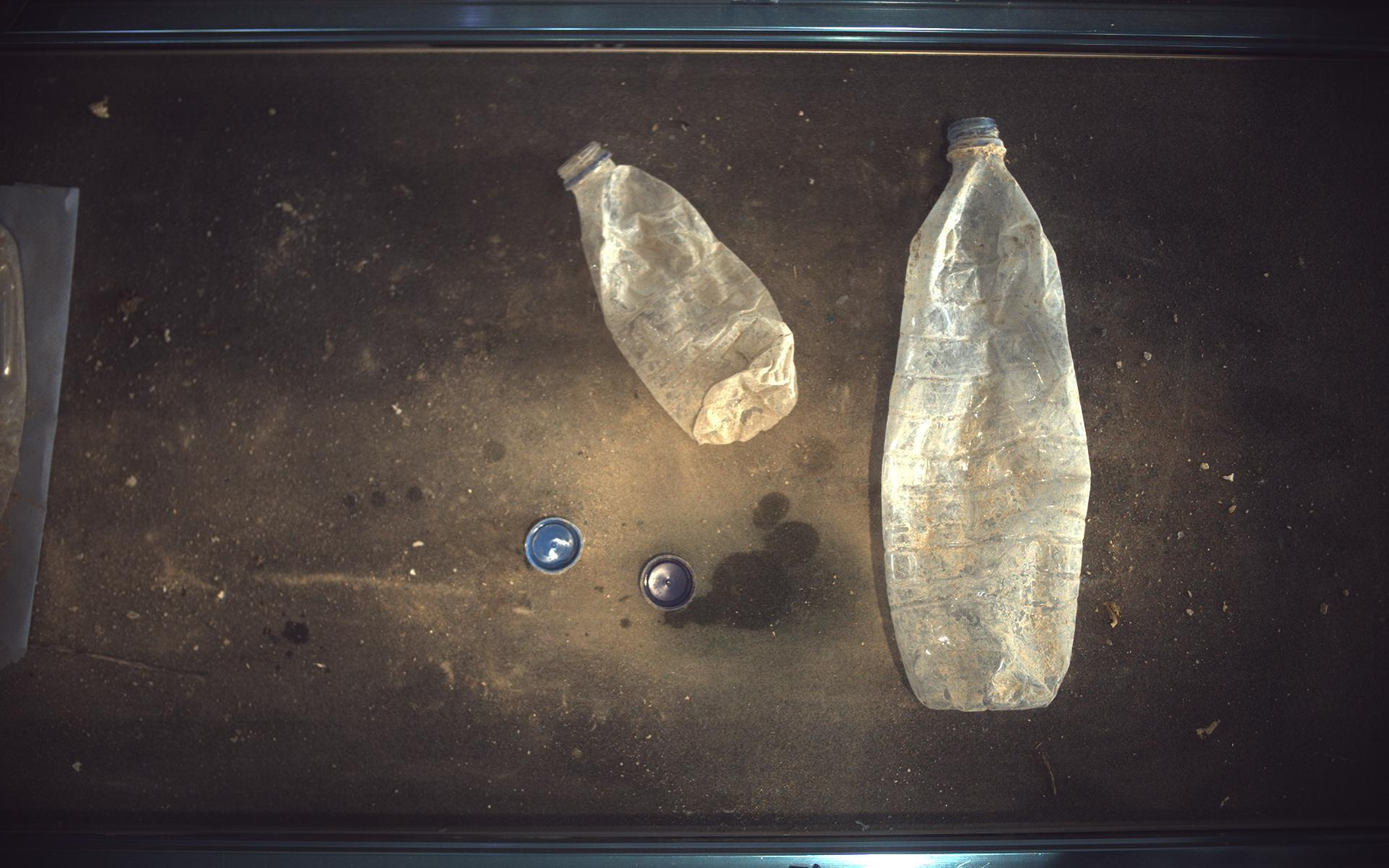general_w: (883, 116, 1093, 712), (558, 140, 799, 444), (525, 517, 585, 576), (640, 554, 697, 613)
